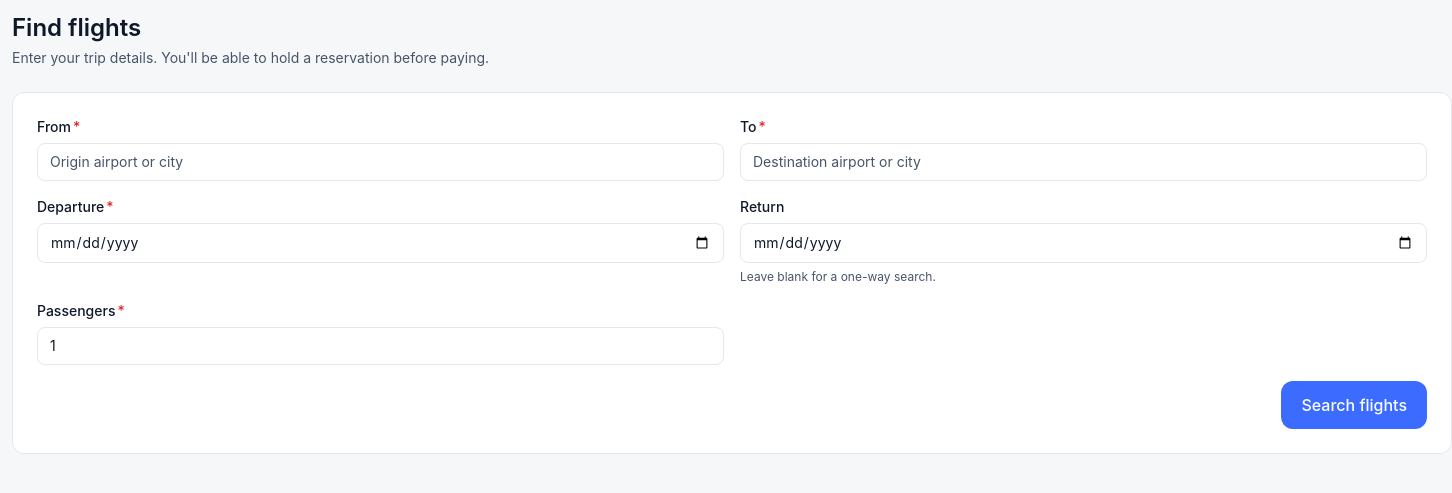
SearchScreen › rejects an out-of-range passenger count
In the field labelled "From*": (380, 162) 38,144 -> 723,180, type "BLR"
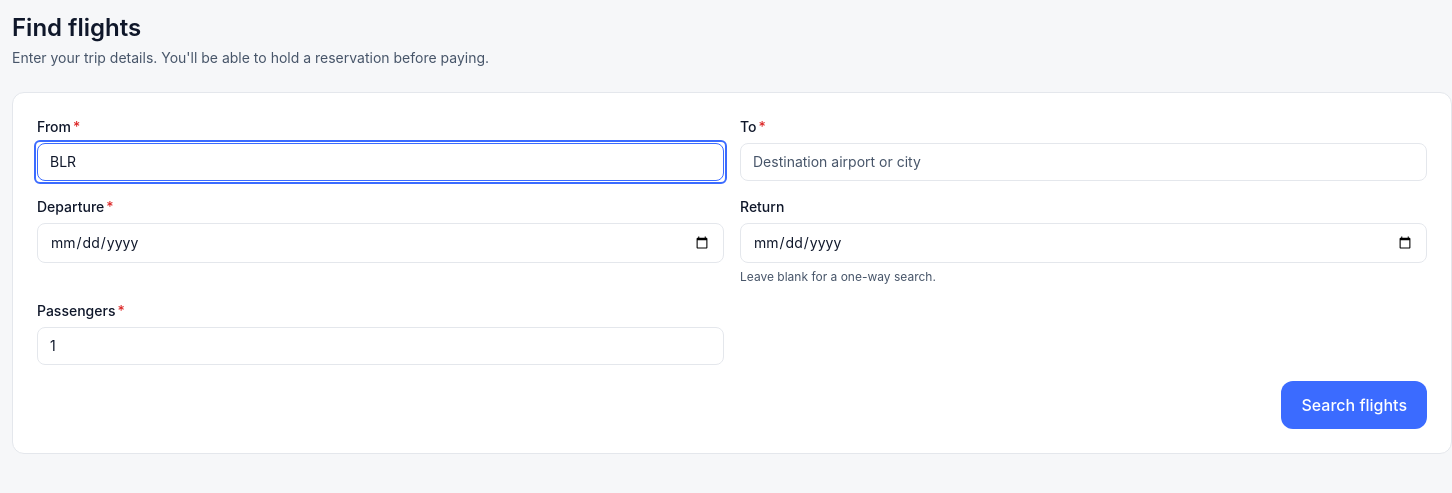
In the field labelled "To*": (1084, 162) 741,144 -> 1426,180, type "DXB"
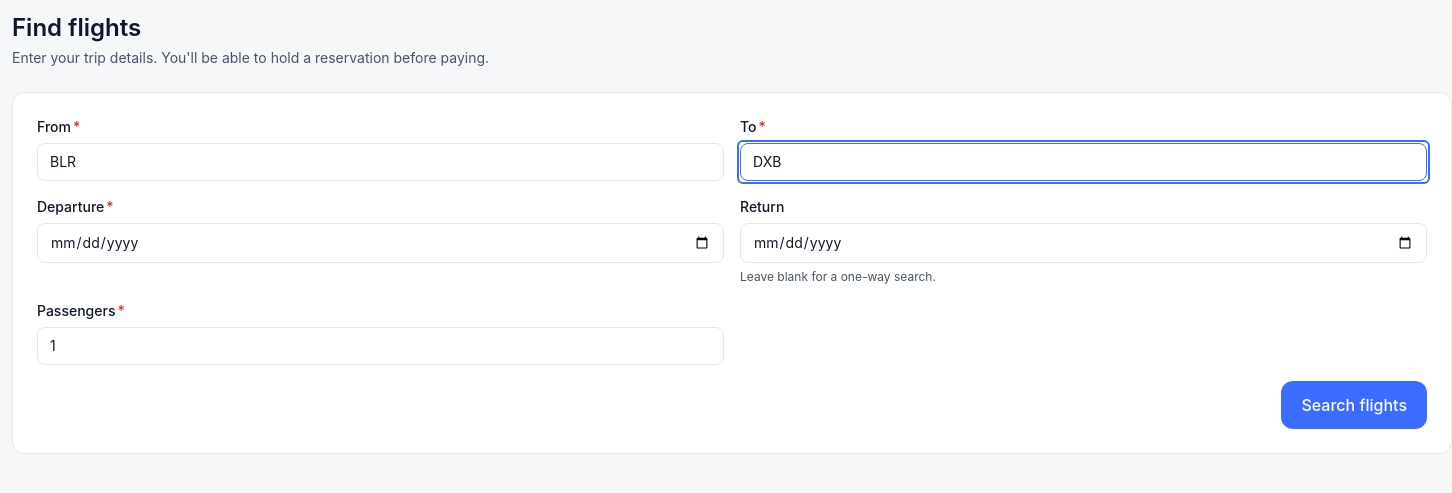
In the date field labelled "Departure*": (380, 243) 38,224 -> 723,262, type "2027-01-15"
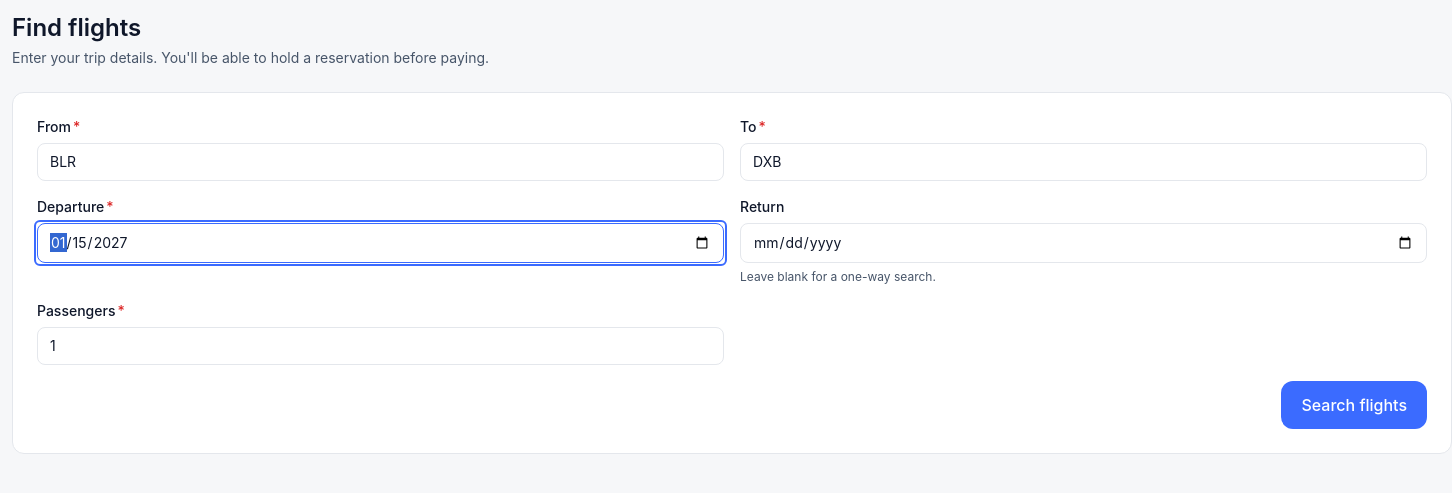
Replace the text in the number field labelled "Passengers*" with "99": (380, 346) 38,328 -> 723,364
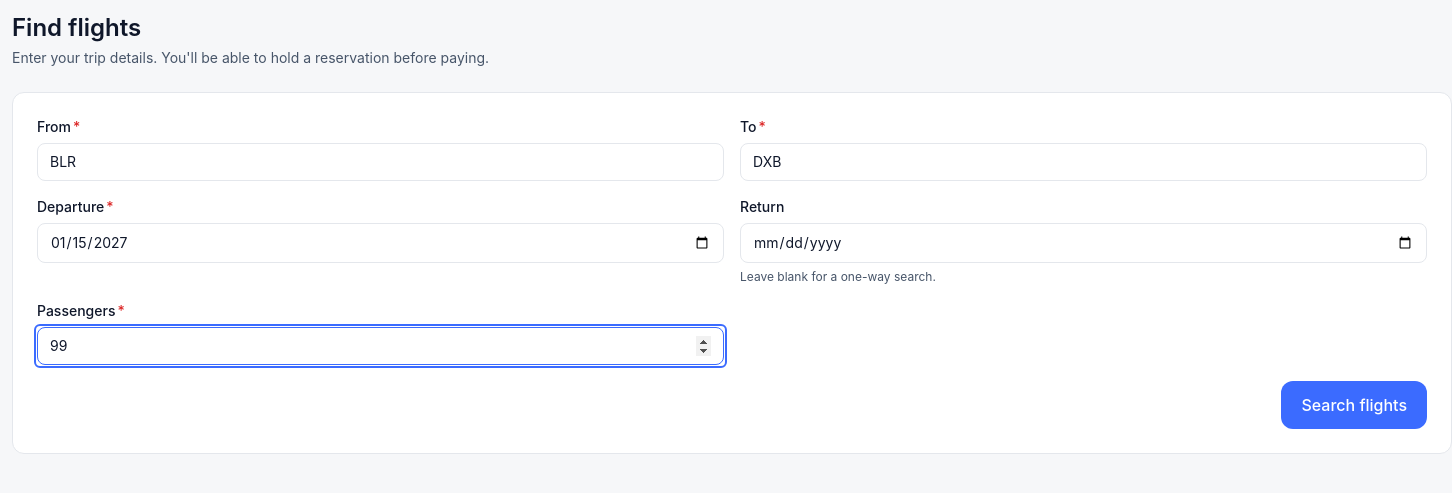
Click the button "Search flights": (1354, 405) 1281,381 -> 1427,429
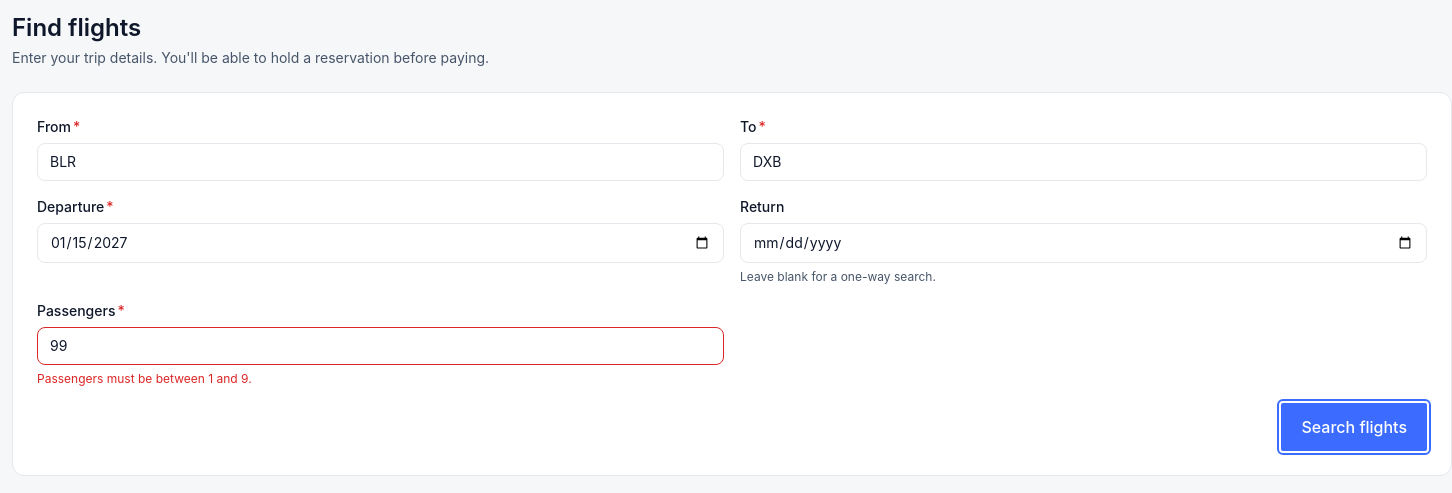
expect the text "Passengers must be between 1 and 9." is shown: met, box 37,371 -> 252,386
